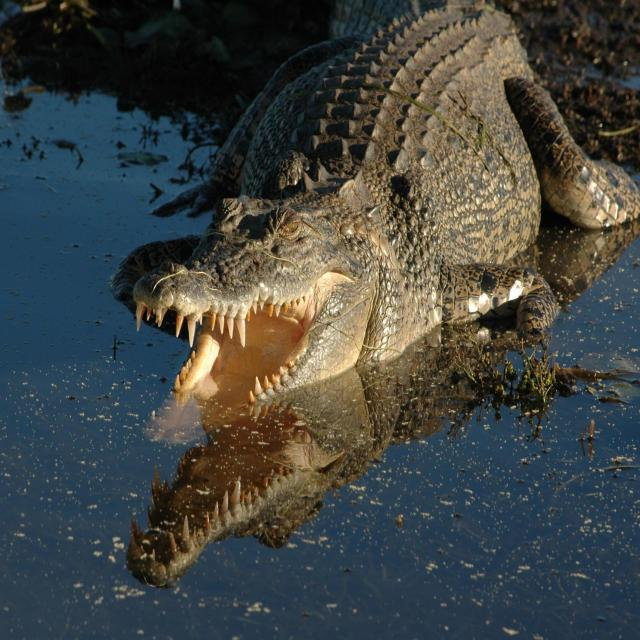crocodile: (114, 0, 637, 434)
